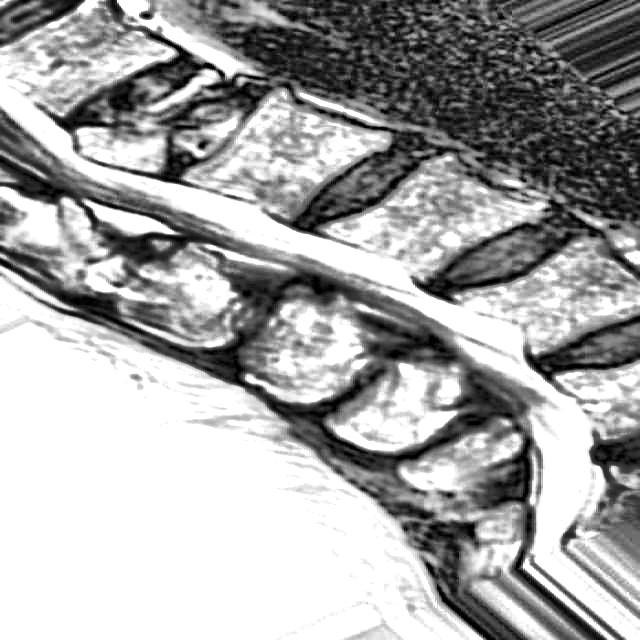Comminuted: (65, 53, 254, 177)
